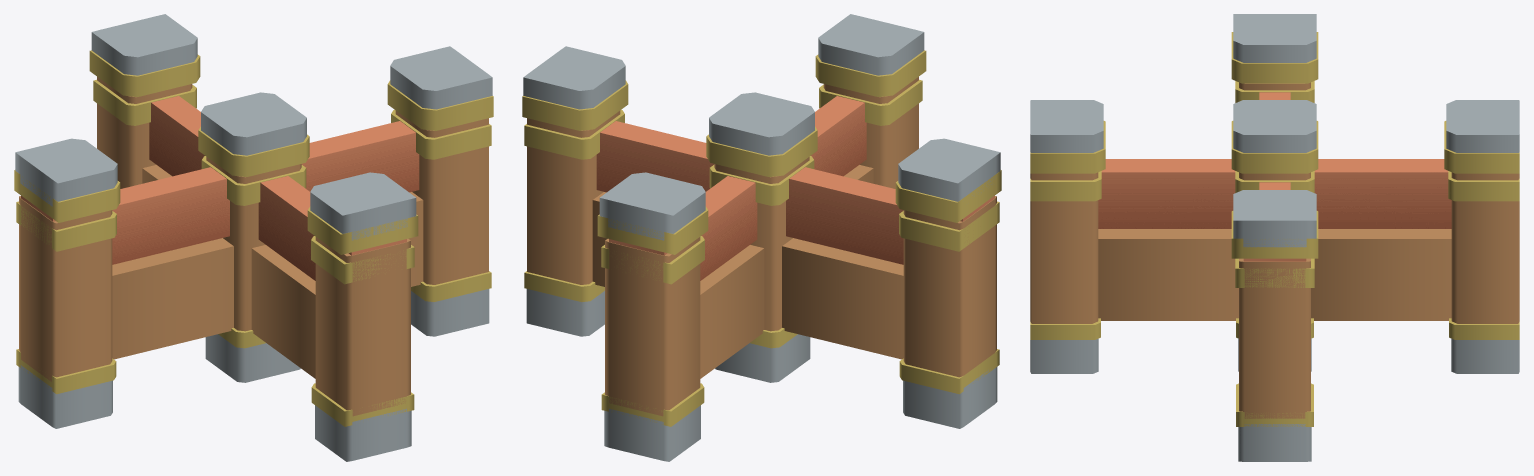
File: cross.glb
The picture shows the model from 3 angles, left to right: view 1: azimuth 30°, elevation 25°; view 2: azimuth 150°, elevation 25°; view 3: azimuth 270°, elevation 25°; orthographic projection. The views are drawn at different scales.
Visible parts, largest first — view 1: upgrade_wall_level_4, upgrade_wall_level_8, upgrade_wall_level_5, upgrade_wall_level_7, wood-structure-part.001, upgrade_wall_level_6, upgrade_wall_level_2; view 2: upgrade_wall_level_4, upgrade_wall_level_8, upgrade_wall_level_5, upgrade_wall_level_7, wood-structure-part.001, upgrade_wall_level_6, upgrade_wall_level_2; view 3: upgrade_wall_level_8, upgrade_wall_level_6, upgrade_wall_level_4, upgrade_wall_level_7, wood-structure-part.001, upgrade_wall_level_5, upgrade_wall_level_2.
Part boxes in pixels (left/top/right/bottom): upgrade_wall_level_4: left=19, top=77, right=488, bottom=416; upgrade_wall_level_8: left=14, top=34, right=493, bottom=461; upgrade_wall_level_5: left=16, top=79, right=491, bottom=414; upgrade_wall_level_7: left=15, top=14, right=492, bottom=240; wood-structure-part.001: left=21, top=96, right=419, bottom=280; upgrade_wall_level_6: left=112, top=165, right=423, bottom=378; upgrade_wall_level_2: left=18, top=289, right=489, bottom=461; upgrade_wall_level_4: left=527, top=77, right=996, bottom=416; upgrade_wall_level_8: left=522, top=33, right=1001, bottom=461; upgrade_wall_level_5: left=524, top=78, right=999, bottom=415; upgrade_wall_level_7: left=523, top=14, right=1000, bottom=240; wood-structure-part.001: left=596, top=96, right=994, bottom=280; upgrade_wall_level_6: left=592, top=165, right=903, bottom=378; upgrade_wall_level_2: left=526, top=289, right=997, bottom=461; upgrade_wall_level_8: left=1030, top=32, right=1519, bottom=461; upgrade_wall_level_6: left=1098, top=229, right=1451, bottom=320; upgrade_wall_level_4: left=1030, top=82, right=1519, bottom=418; upgrade_wall_level_7: left=1030, top=14, right=1519, bottom=247; wood-structure-part.001: left=1098, top=92, right=1451, bottom=261; upgrade_wall_level_5: left=1030, top=81, right=1519, bottom=418; upgrade_wall_level_2: left=1030, top=342, right=1519, bottom=461.
Bounding box in the file's own units: 1 × 0.545 × 1.
Materials: 2 (1 with a texture image).
